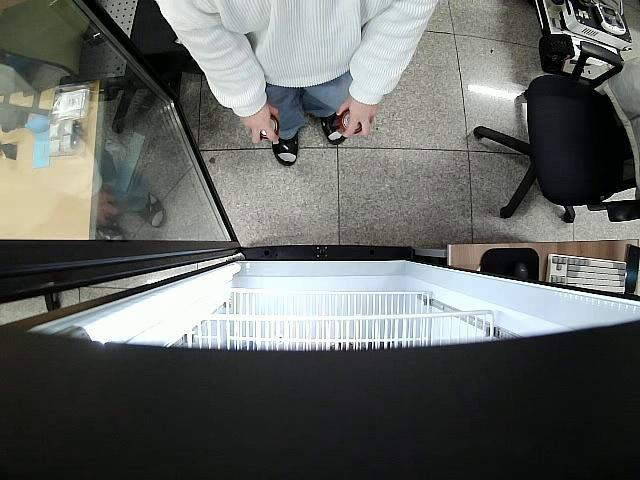11_cocaColaZero: (333, 108, 361, 138), (257, 112, 282, 138)
